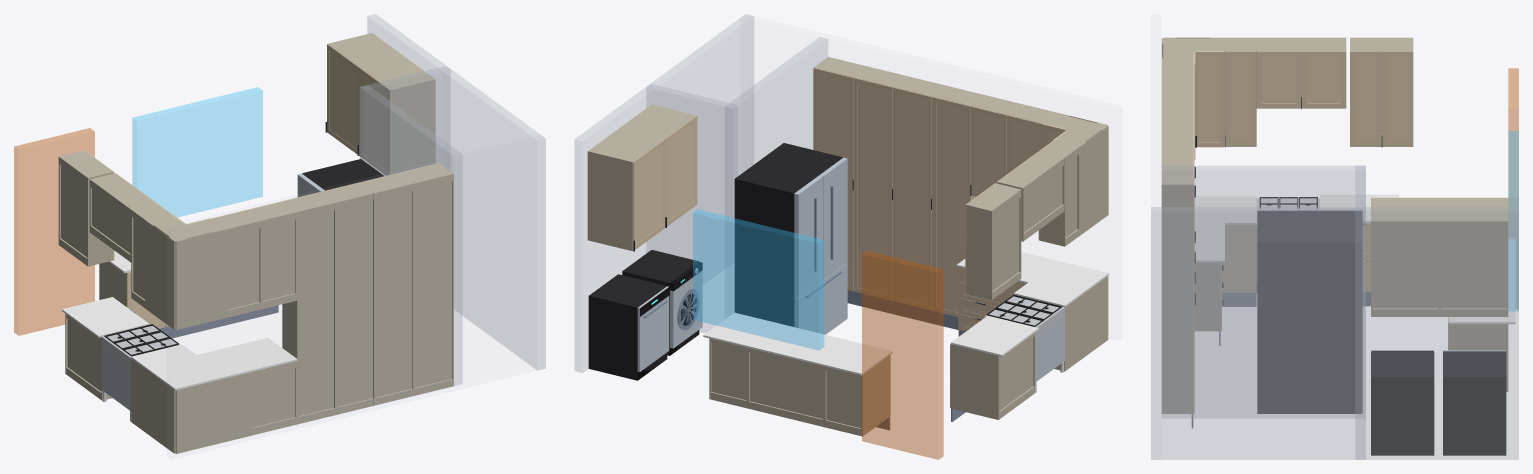
3 views of the same model, side by side, from view 1: azimuth 30°, elevation 25°; view 2: azimuth 150°, elevation 25°; view 3: azimuth 270°, elevation 25° (orthographic). The views are drawn at different scales.
Parts seen in each view (by area): view 1: Mesh (×8), Backplane (×11), Corner_Back_Left (×2), Worktop (×3), Right (×2), Corner_Back_Right (×2), Door_1 (×2), Top_Solid_Cap (×3), Left (×4), Corner_Stile_2 (×2), Corner_Stile_1 (×2), Corner_Stile_4 (+3 smaller); view 2: Mesh (×16), Door_1 (×8), Backplane (×7), Worktop (×4), Right (×3), Left (×2), Corner_Back_Right (×2), Top_Solid_Cap (×3), Dor_Stile_L_0 (×3), Dor_Stile_R_0 (×3), Corner_Top_1, BottomBack; view 3: Mesh (×9), Backplane (×2), Left (×2), Top_Solid_Cap (×10), Door_2 (×4), Door_1 (×3), Worktop (×4), Right, BottomBack (×2), UpperBack (×2), Dor_Stile_L_0 (×2), Dor_Stile_R_0 (×2) (+6 smaller).
Boxes of the visible parts, box(x1,y1,x2,y2) form: Mesh (×8): box(14, 14, 545, 411); Backplane (×11): box(61, 157, 451, 427); Corner_Back_Left (×2): box(176, 230, 249, 453); Worktop (×3): box(62, 297, 297, 390); Right (×2): box(282, 79, 435, 424); Corner_Back_Right (×2): box(131, 223, 173, 452); Door_1 (×2): box(327, 44, 391, 171); Top_Solid_Cap (×3): box(92, 34, 432, 208); Left (×4): box(87, 171, 375, 415); Corner_Stile_2 (×2): box(175, 238, 186, 453); Corner_Stile_1 (×2): box(214, 229, 249, 438); Corner_Stile_4: box(168, 237, 175, 329); Mesh (×16): box(574, 14, 1064, 459); Door_1 (×8): box(632, 68, 1042, 312); Backplane (×7): box(711, 147, 1077, 428); Worktop (×4): box(703, 252, 1109, 375); Right (×3): box(951, 151, 1065, 419); Left (×2): box(587, 150, 890, 436); Corner_Back_Right (×2): box(1064, 127, 1107, 371); Top_Solid_Cap (×3): box(591, 105, 1061, 186); Dor_Stile_L_0 (×3): box(853, 82, 936, 306); Dor_Stile_R_0 (×3): box(849, 81, 931, 305); Corner_Top_1: box(1045, 114, 1106, 136); BottomBack: box(749, 401, 822, 426); Mesh (×9): box(1151, 68, 1518, 459); Backplane (×2): box(1372, 220, 1506, 308); Left (×2): box(1161, 184, 1220, 413); Top_Solid_Cap (×10): box(1163, 38, 1506, 220); Door_2 (×4): box(1193, 51, 1413, 287); Door_1 (×3): box(1225, 51, 1381, 141); Worktop (×4): box(1194, 194, 1515, 324); Right: box(1449, 324, 1508, 391); BottomBack (×2): box(1372, 308, 1506, 316); UpperBack (×2): box(1372, 220, 1506, 228); Dor_Stile_L_0 (×2): box(1225, 56, 1355, 141); Dor_Stile_R_0 (×2): box(1251, 56, 1381, 141).
Bounding box in the file's own units: 4.43 × 2.75 × 3.49.
